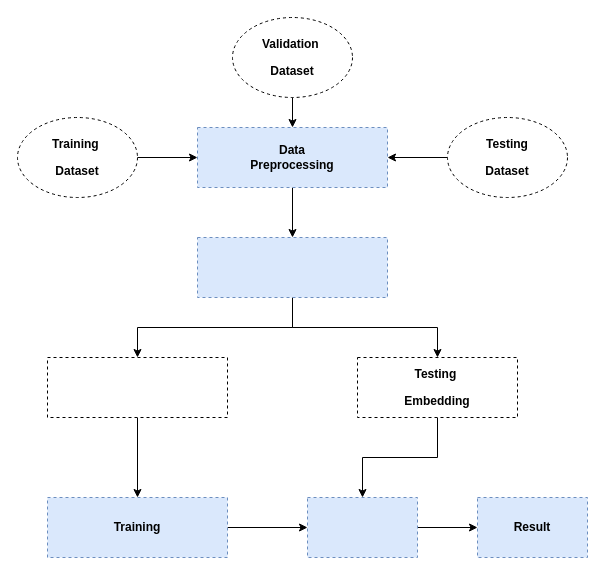
Some shapes in this 605 by 575 pixel diagram are drawn without their labels. The shapes that lost their labels are listed below. From the top down, each one's centre as x and y in pixels, then its label:
At (292,267): "Pretraining Model (BERT)".
At (137,387): "Training/validation Embedding".
At (362,527): "Classifier".
